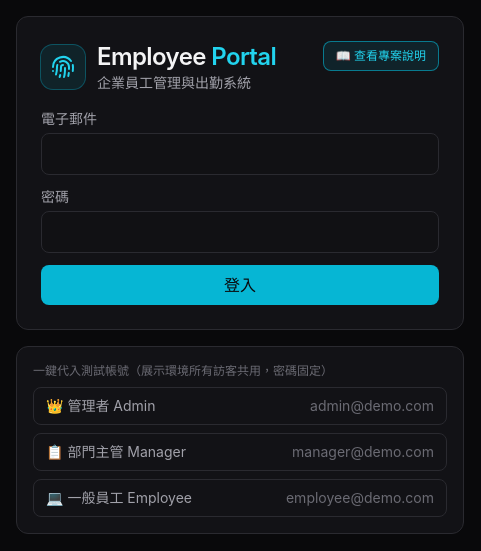
Scenario: 一鍵代入不會把密碼寫進 password 欄位的 state
Click the button "💻 一般員工 Employee employee@demo.com".
click(130, 498)  # box [33,479,447,517]
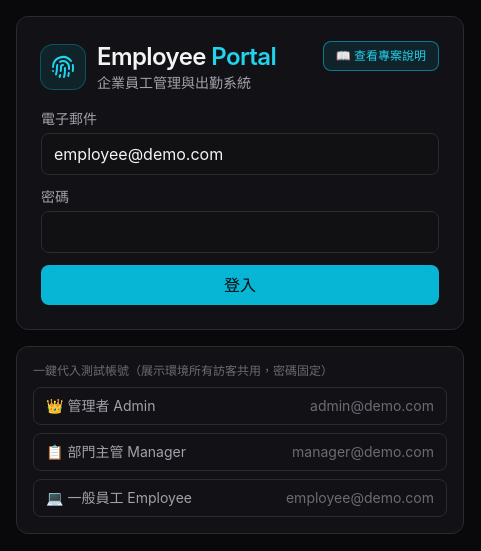
Expected: the password field labelled "密碼" is empty, [41,211,439,253]
Expected: the field labelled "電子郵件" holds "employee@demo.com", [41,133,439,175]
